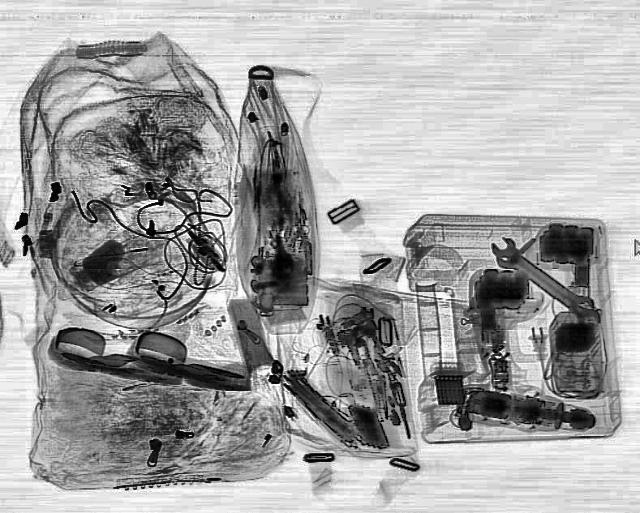Wrench: (489, 245, 608, 331), (484, 233, 600, 319)
